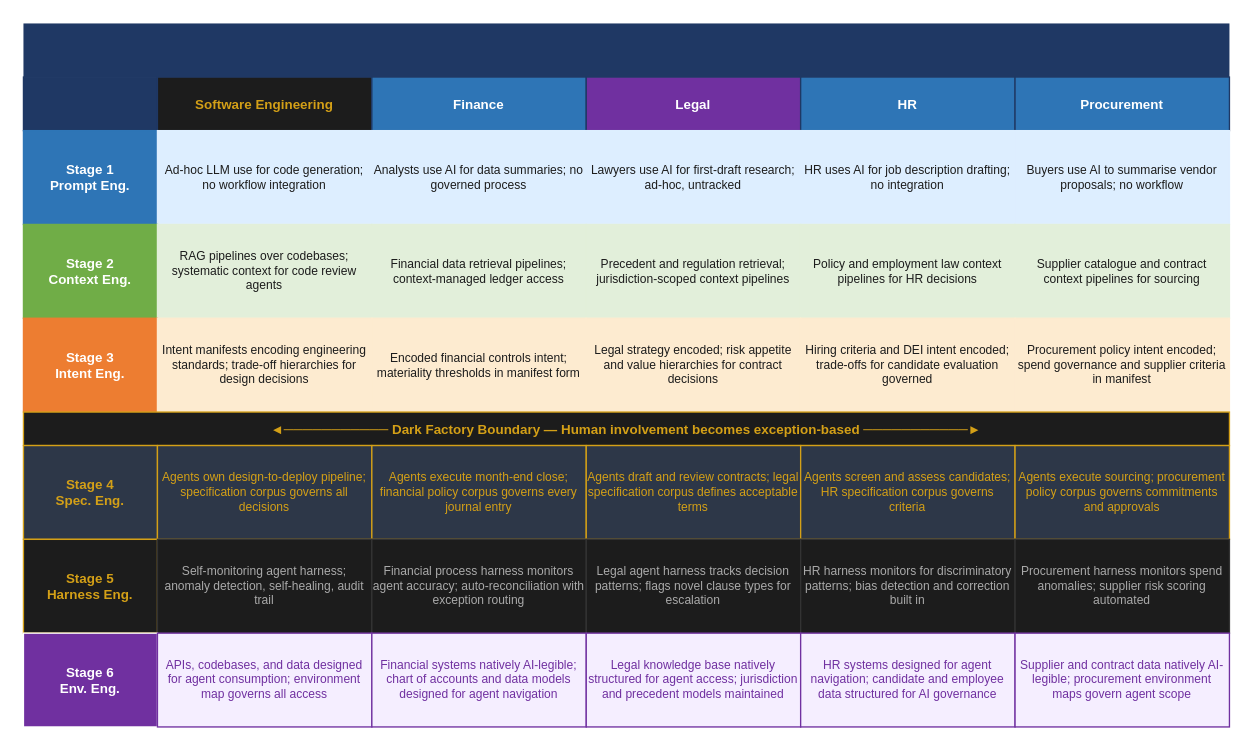
This 1253x750 diagram has some shape labels left out. The centre of each missing label's shape, as x and y in pixels:
AI Operational Maturity — Knowledge Work Domain Grid: [626,49]
Stage: [89,103]
